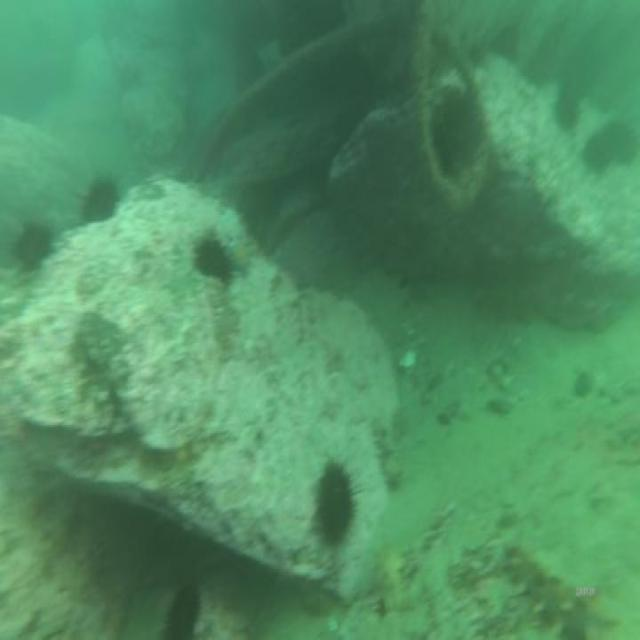echinus: (313, 460, 354, 555), (160, 575, 206, 640), (11, 217, 57, 278), (191, 229, 234, 289), (82, 171, 119, 229), (556, 79, 580, 134)
holothurian: (499, 539, 597, 634)
